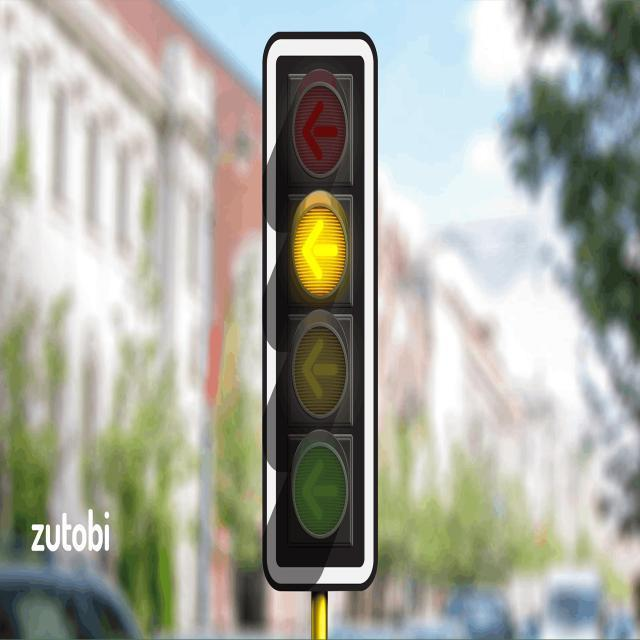yellow_light: (262, 32, 377, 592)
